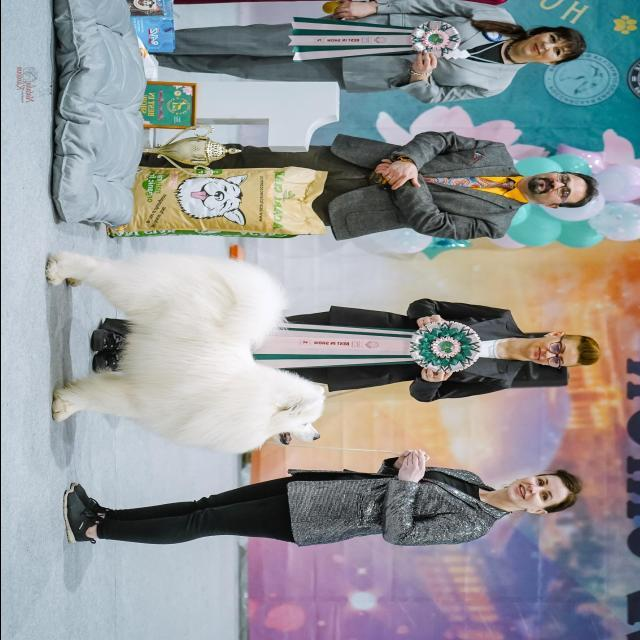Dogs: (41, 248, 330, 456)
